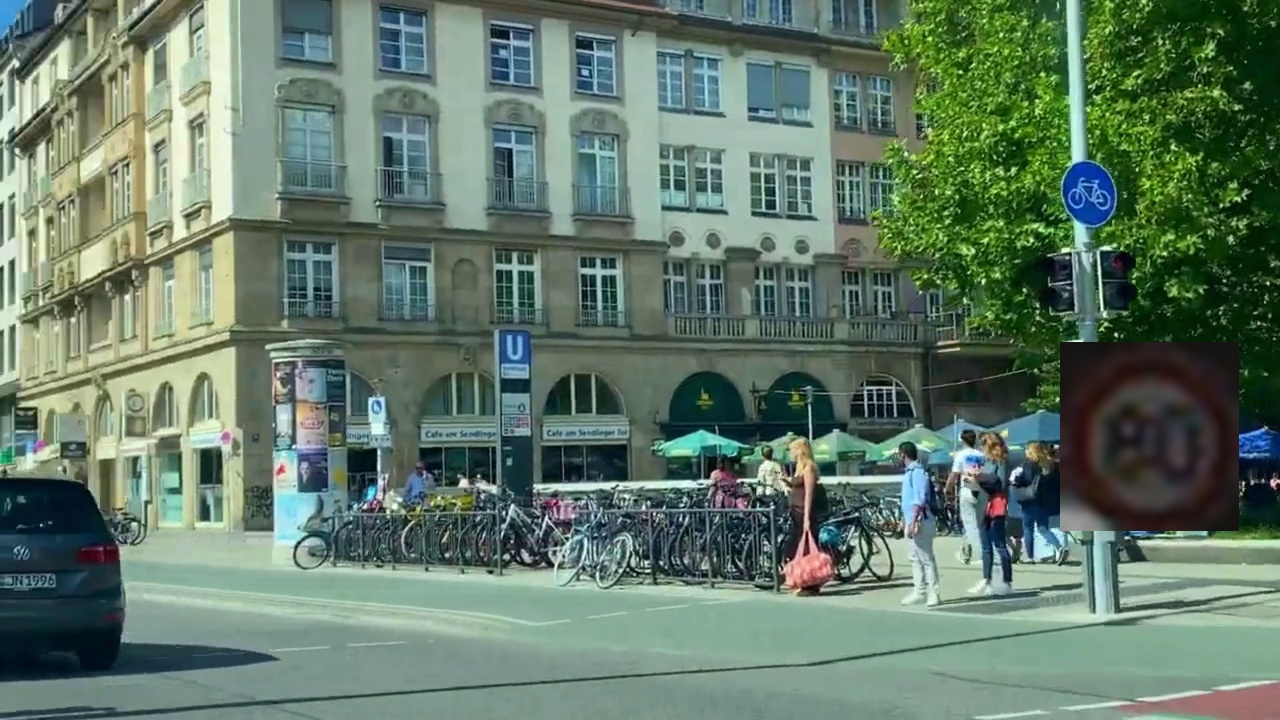Speed 80: (1060, 342, 1239, 531)
